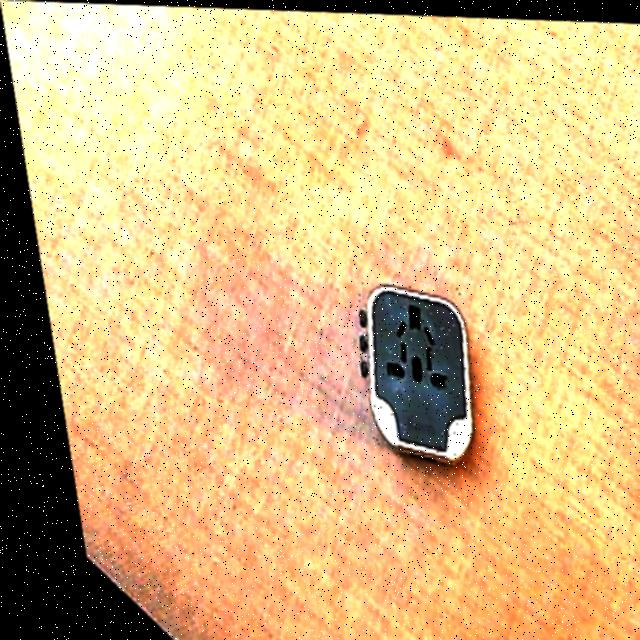adapter: (337, 279, 472, 463)
